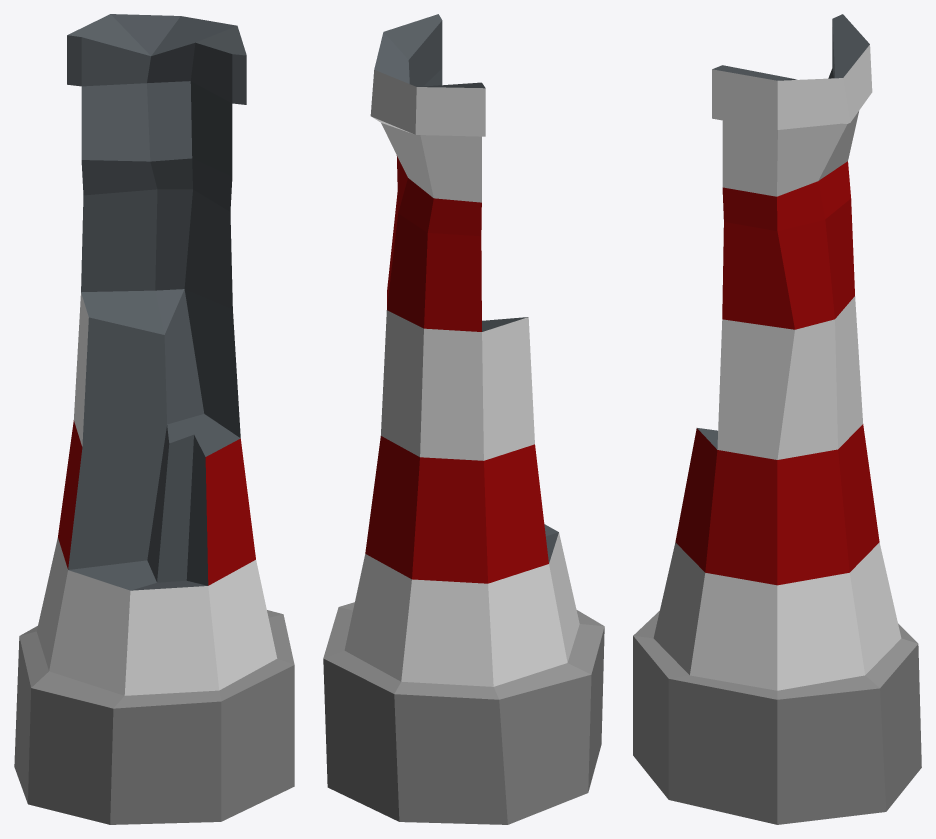
Rendered from Leuchtturm_Damaged.fbx.
The picture shows the model from 3 angles, left to right: view 1: azimuth 30°, elevation 25°; view 2: azimuth 150°, elevation 25°; view 3: azimuth 270°, elevation 25°; orthographic projection. The views are drawn at different scales.
Parts seen in each view (by area): view 1: Leuchtturm_Damaged; view 2: Leuchtturm_Damaged; view 3: Leuchtturm_Damaged.
Boxes of the visible parts, x1,y1,x2,y2 form: Leuchtturm_Damaged: (14,14,294,824); Leuchtturm_Damaged: (323,14,604,824); Leuchtturm_Damaged: (633,14,921,824).
Size of the model in its own units: 0.0365 by 0.1 by 0.0358.
